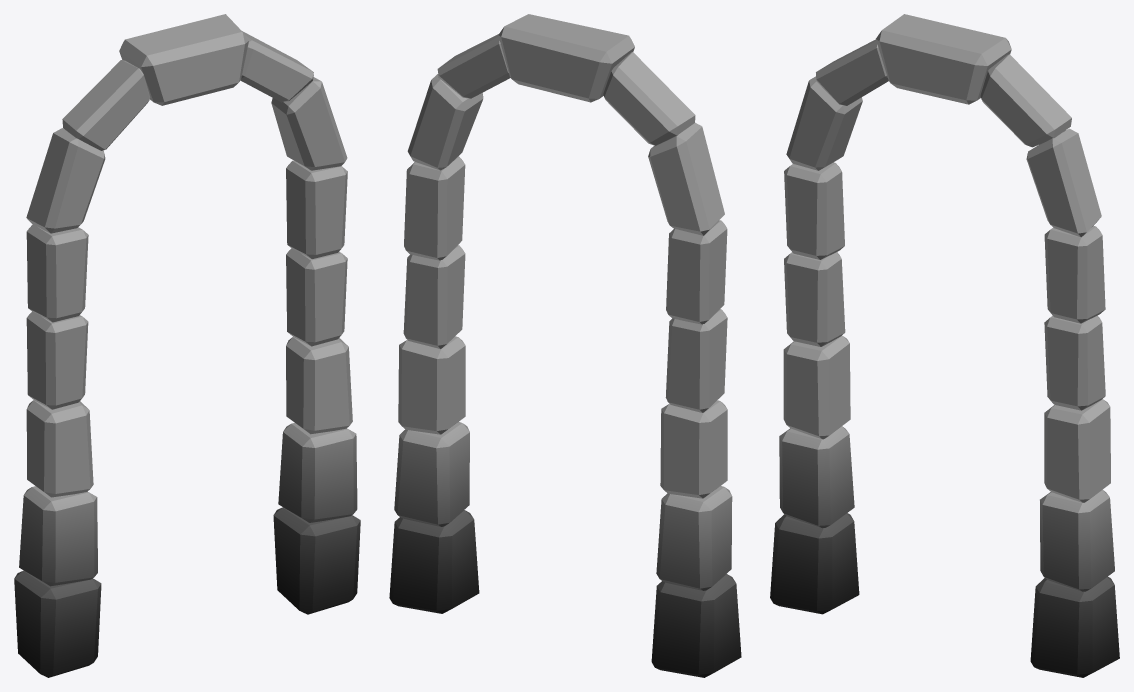
File: BrickArchway_02_1.6x2.75.fbx
The picture shows the model from 3 angles, left to right: view 1: azimuth 30°, elevation 25°; view 2: azimuth 150°, elevation 25°; view 3: azimuth 330°, elevation 25°; orthographic projection.
Parts seen in each view (by area): view 1: BrickArchway_02_1.5x2.75; view 2: BrickArchway_02_1.5x2.75; view 3: BrickArchway_02_1.5x2.75.
Boxes of the visible parts, x1,y1,x2,y2 form: BrickArchway_02_1.5x2.75: [14, 14, 360, 677]; BrickArchway_02_1.5x2.75: [389, 14, 741, 677]; BrickArchway_02_1.5x2.75: [770, 14, 1119, 677].
Size of the model in its own units: 155 by 275 by 30.04.
